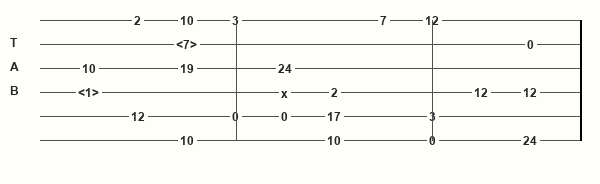0: (232, 110, 243, 123), (281, 110, 292, 123), (429, 134, 440, 147), (527, 38, 538, 51)
10: (82, 62, 100, 75), (180, 134, 198, 147), (180, 14, 198, 27), (327, 134, 345, 147)
12: (131, 110, 149, 123), (425, 14, 443, 27), (474, 86, 492, 99), (523, 86, 541, 99)
17: (327, 110, 345, 123)
19: (180, 62, 198, 75)
2: (134, 14, 145, 27), (331, 86, 342, 99)
24: (278, 62, 296, 75), (523, 134, 541, 147)
3: (232, 14, 243, 27), (429, 110, 440, 123)
7: (380, 14, 391, 27)
harmonic: (78, 86, 103, 99), (176, 38, 201, 51)
x: (281, 87, 292, 98)
